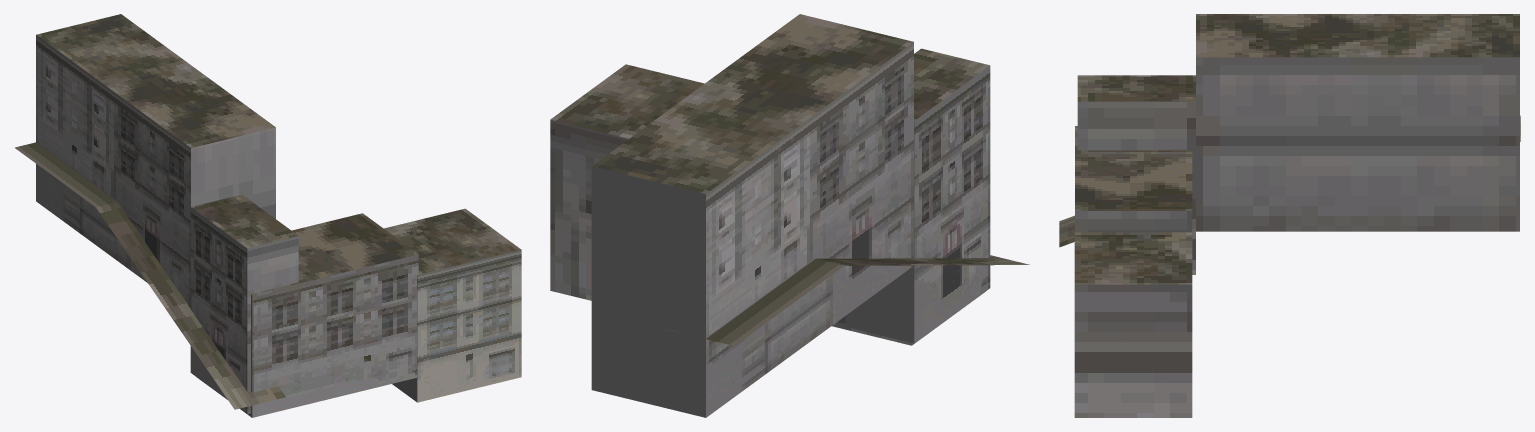
Rendered from lodkmod2_sfw69.obj.
3 renders of one model, left to right at view 1: azimuth 30°, elevation 25°; view 2: azimuth 150°, elevation 25°; view 3: azimuth 270°, elevation 25°, orthographic. The views are drawn at different scales.
Visible parts, largest first — view 1: LODkmod2_sfw69; view 2: LODkmod2_sfw69; view 3: LODkmod2_sfw69.
Part boxes in pixels (x1,y1,x2,y2): LODkmod2_sfw69: [15, 14, 521, 417]; LODkmod2_sfw69: [550, 14, 1029, 417]; LODkmod2_sfw69: [1059, 14, 1520, 417].
Size of the model in its own units: 51.29 by 42.16 by 66.54.
8 materials, 8 textured.
